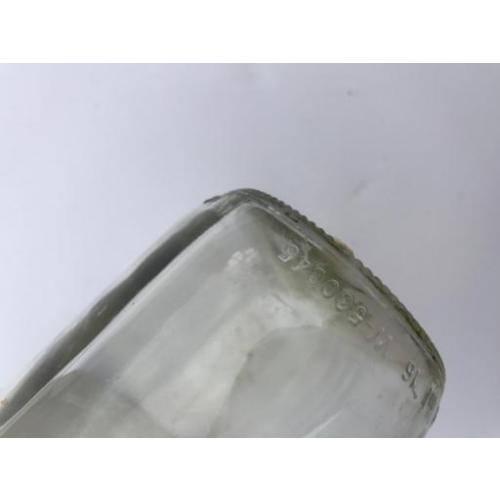glass: (0, 189, 444, 432)
